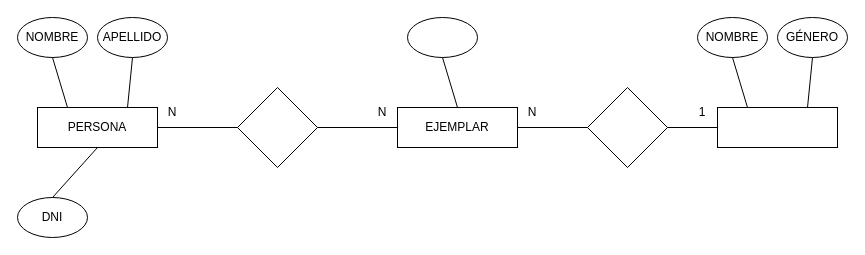
Image size: 865x255. Some labels were removed from this diagram. Here are the shapes that lost their labels. From the top down, the centre of each, then its label:
At point (442, 37): "NÚMERO".
At point (277, 127): "ALQUILA".
At point (627, 127): "POSEE".
At point (777, 127): "LIBRO".
